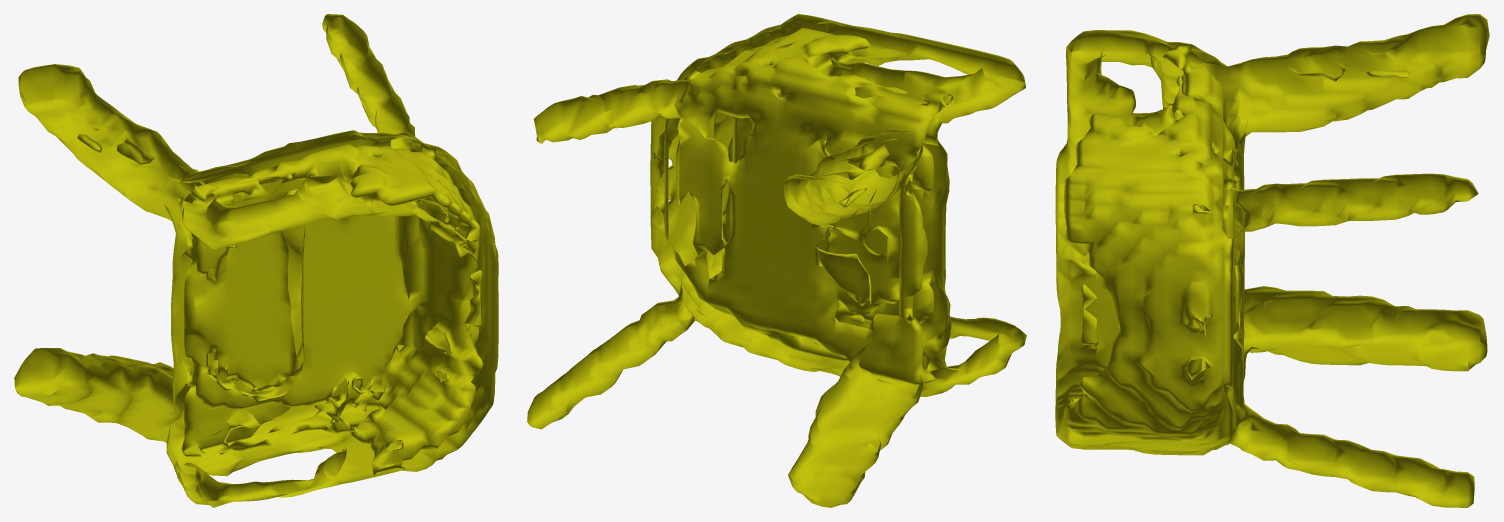
3 views of the same model, side by side, from view 1: azimuth 30°, elevation 25°; view 2: azimuth 150°, elevation 25°; view 3: azimuth 270°, elevation 25° (orthographic). The views are drawn at different scales.
Visible parts, largest first — view 1: world; view 2: world; view 3: world.
Part boxes in pixels (x1,y1,x2,y2): world: (14,14,498,507); world: (527,14,1026,507); world: (1055,14,1489,507).
Bounding box in the file's own units: 32.95 × 31.58 × 36.19.
